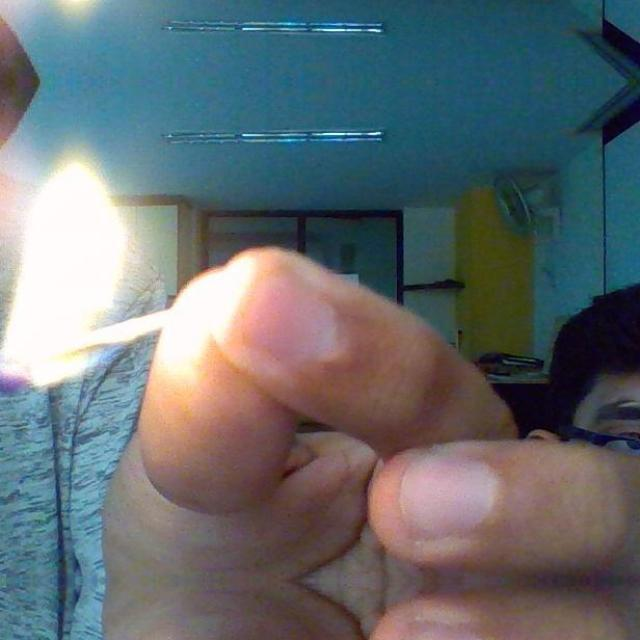smoke: (0, 160, 133, 395)
